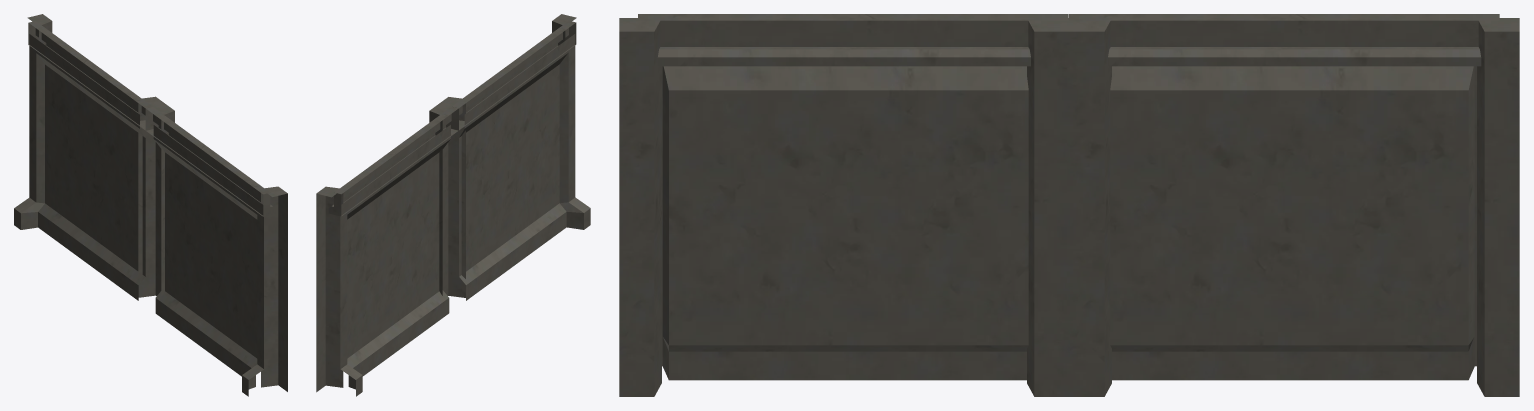
The model's file is wall-panel-concrete.gltf.
3 views of the same model, side by side, from view 1: azimuth 30°, elevation 25°; view 2: azimuth 150°, elevation 25°; view 3: azimuth 270°, elevation 25° (orthographic). The views are drawn at different scales.
Visible parts, largest first — view 1: Plane.011; view 2: Plane.011; view 3: Plane.011.
Boxes of the visible parts, bbox=[...] form: Plane.011: bbox=[14, 14, 287, 396]; Plane.011: bbox=[316, 14, 590, 396]; Plane.011: bbox=[619, 14, 1519, 396].
Size of the model in its own units: 0.5391 by 3 by 6.7.
1 material, 1 textured.
